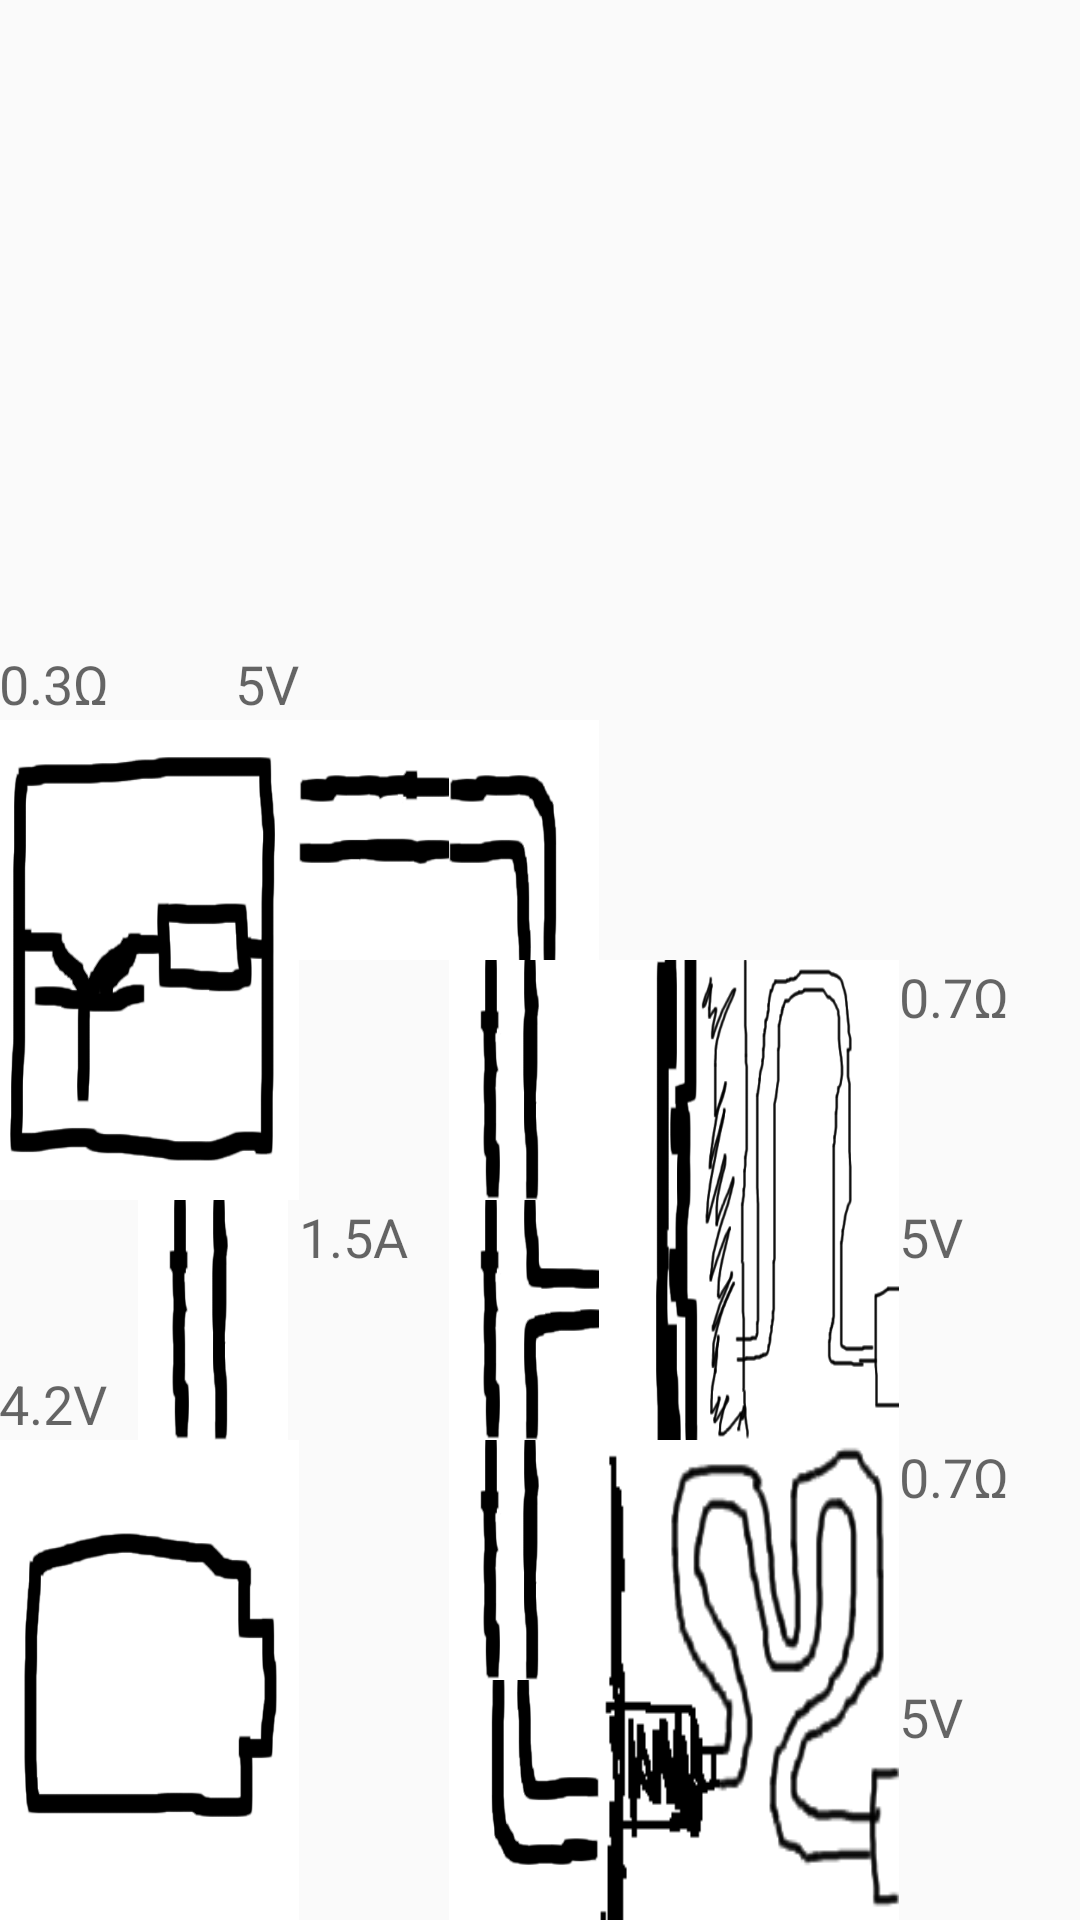

Screen size 1080*1920. Icon name, then its box in pixels as (x1,y1,x2,y2):
battery: (24,1533,277,1817)
conduit lb: (450,775,557,960)
conduit rt: (491,1680,598,1865)
conduit rtb: (480,1200,599,1440)
